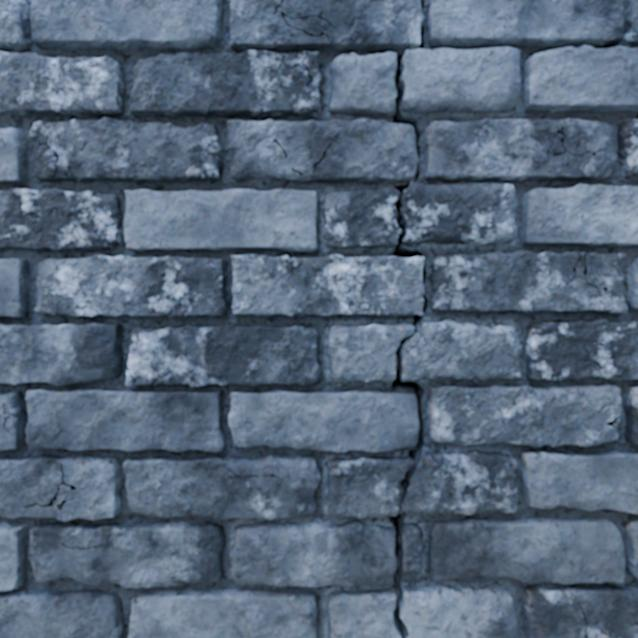broken_brick: (232, 520, 396, 587), (402, 47, 520, 112), (402, 451, 518, 514), (401, 183, 517, 245), (402, 319, 521, 379), (401, 584, 517, 637), (326, 456, 414, 518), (327, 322, 414, 382), (324, 188, 400, 248), (329, 52, 396, 117), (328, 588, 399, 637), (402, 522, 423, 582)
crack: (130, 0, 427, 510), (0, 454, 225, 588), (0, 0, 222, 118), (429, 517, 637, 637), (427, 0, 637, 113), (0, 188, 319, 252), (0, 522, 125, 637), (0, 388, 225, 451), (423, 118, 637, 181), (430, 250, 637, 314), (27, 117, 223, 183), (123, 455, 320, 520), (427, 383, 622, 446), (125, 325, 322, 386), (34, 255, 226, 317), (128, 589, 317, 637), (0, 323, 123, 385), (520, 450, 637, 514), (520, 184, 637, 246), (525, 319, 637, 380), (389, 512, 408, 637), (0, 259, 29, 317), (0, 128, 26, 183), (624, 387, 637, 444)
